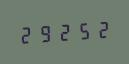five: (72, 19, 89, 42)
nine: (36, 21, 53, 44)
two: (18, 23, 35, 46), (54, 20, 71, 43), (90, 18, 107, 40)
